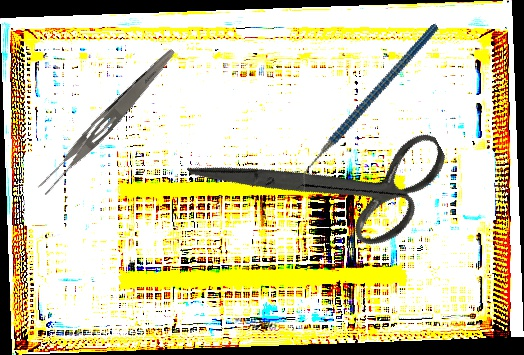Chopper: (262, 23, 476, 192)
Dressing Forceps: (34, 41, 179, 200)
Iris Scissors: (185, 54, 469, 310)
